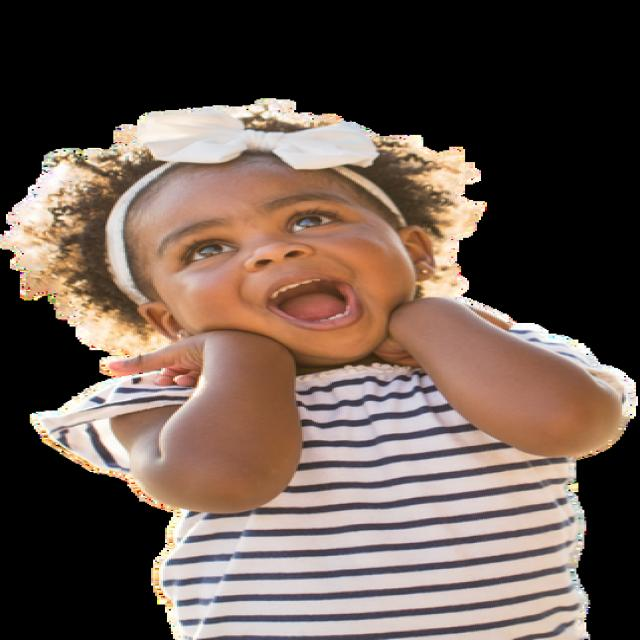child: (11, 111, 627, 640)
